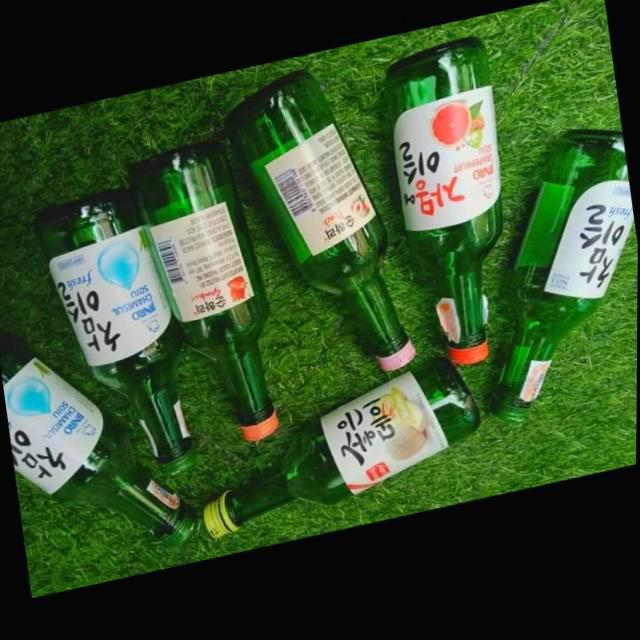glass_bottle: (225, 74, 417, 379), (203, 365, 481, 543), (35, 190, 195, 478), (128, 143, 280, 446), (490, 139, 635, 430), (385, 44, 504, 375), (0, 353, 198, 551)
